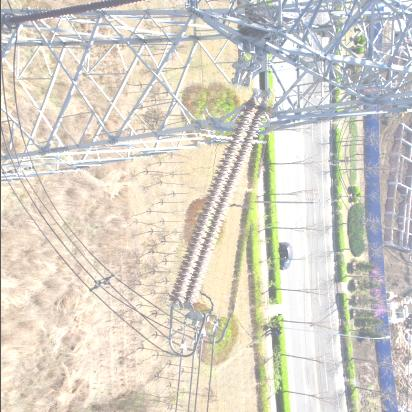insulator: (177, 82, 265, 317)
